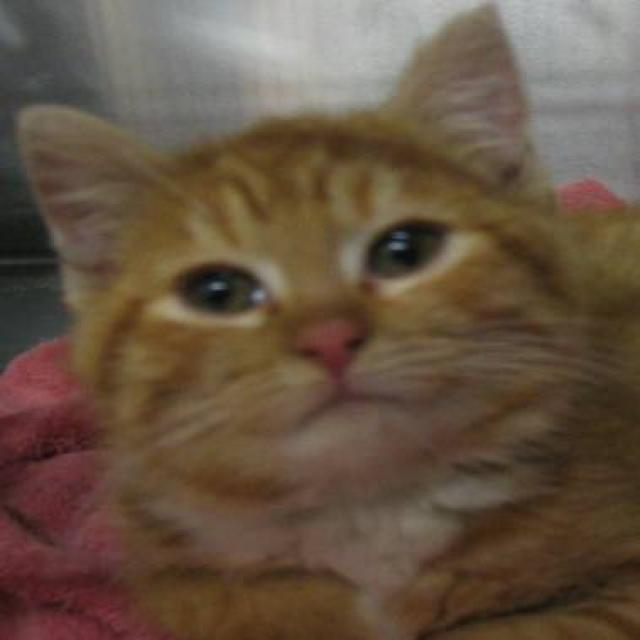cat: (14, 0, 638, 639)
